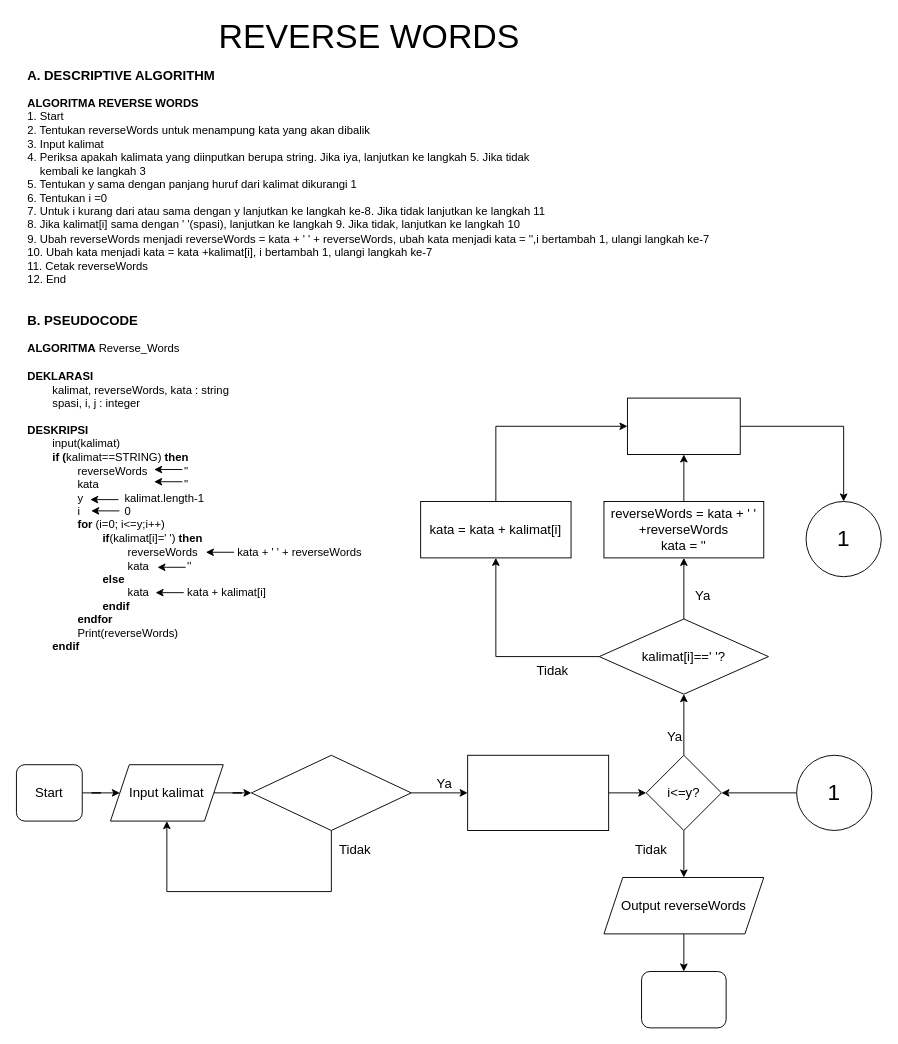
Some shapes in this 898 by 1044 pixel diagram are drawn without their labels. Here are the shapes that lost their labels. From the top down, the centre of each, then its label:
point (683, 425): i=i+1
point (331, 792): kalimat==STRING?
point (538, 792): reverseWords='' kata = '' y=kalimat.length-1 i=0
point (683, 999): End
